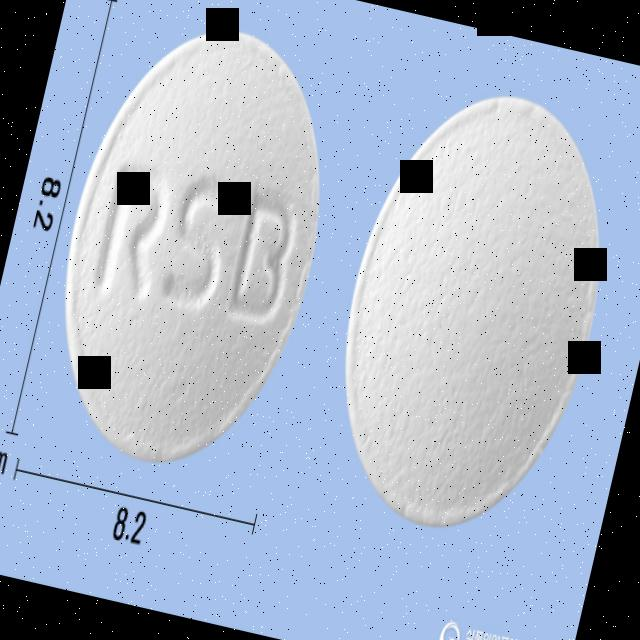Loxavit: (24, 3, 360, 488)
